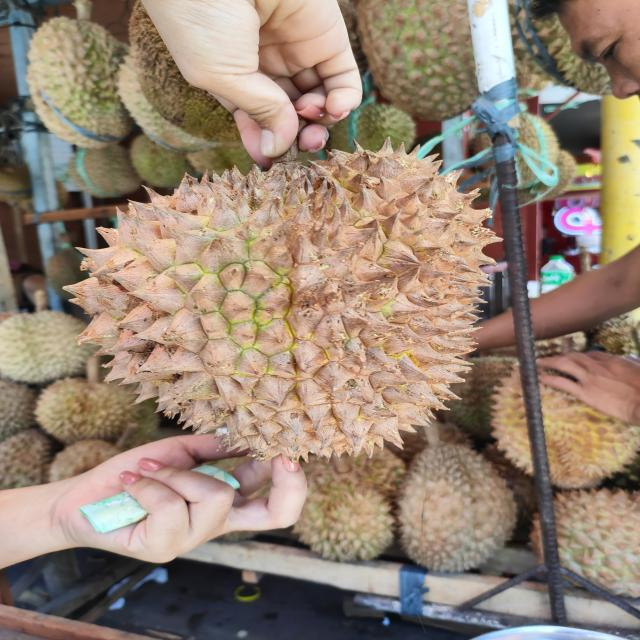mature: (68, 140, 506, 460), (395, 440, 526, 578)
